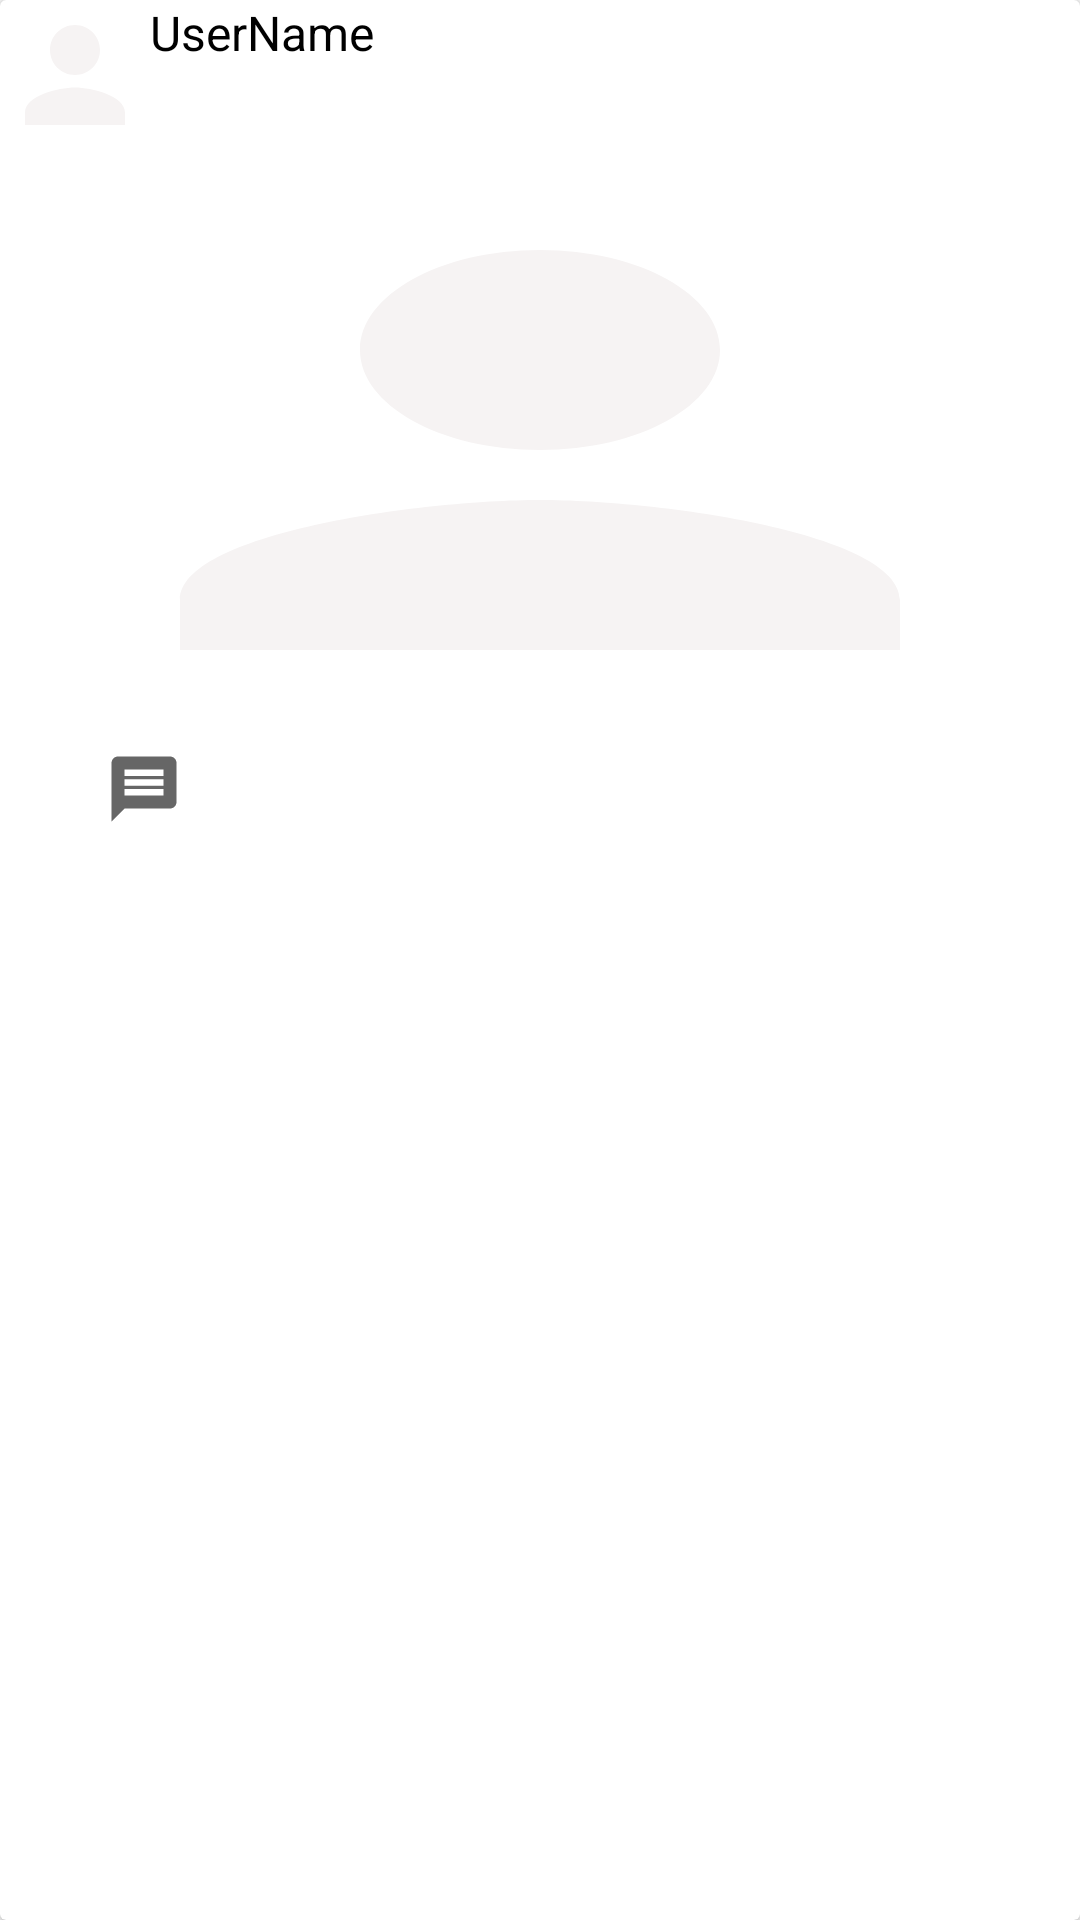

Point at icon controls on the screen. Image size 1080w x 1920h, points as (x=x, y=y).
message: (x=144, y=789)
